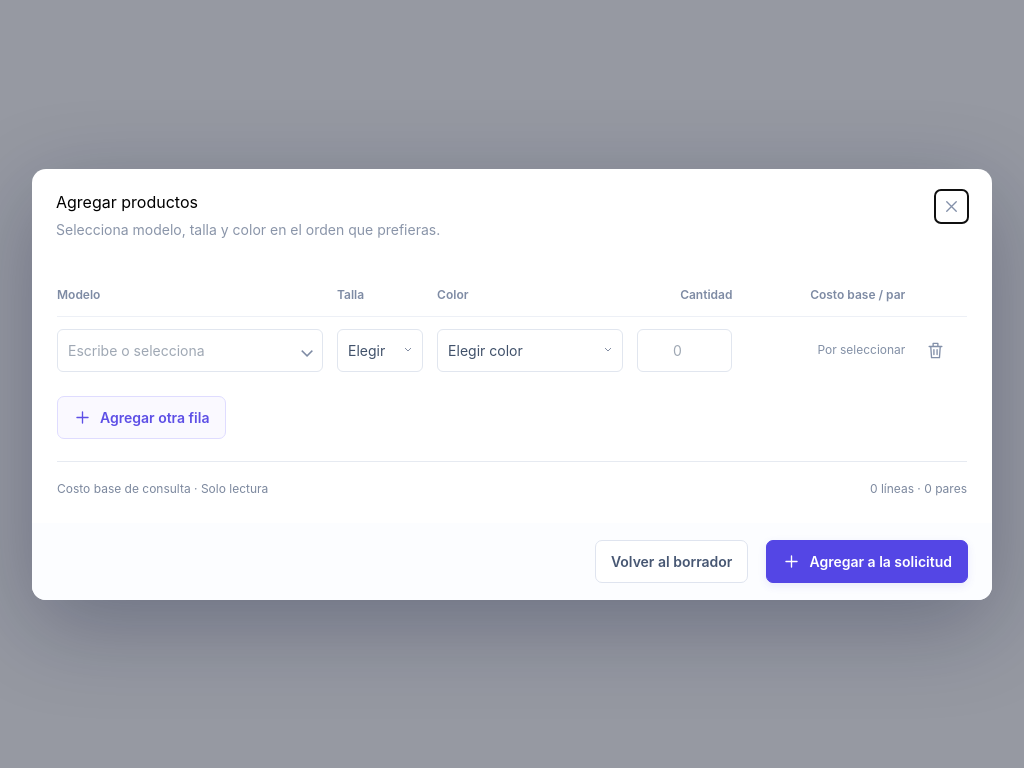
permite quitar una fila incompleta sin bloquear las otras líneas válidas
Step 1. Select "Negro" in the dropdown named "Color de la fila 1" → (530, 350), box top-left (437, 328), bottom-right (623, 372)
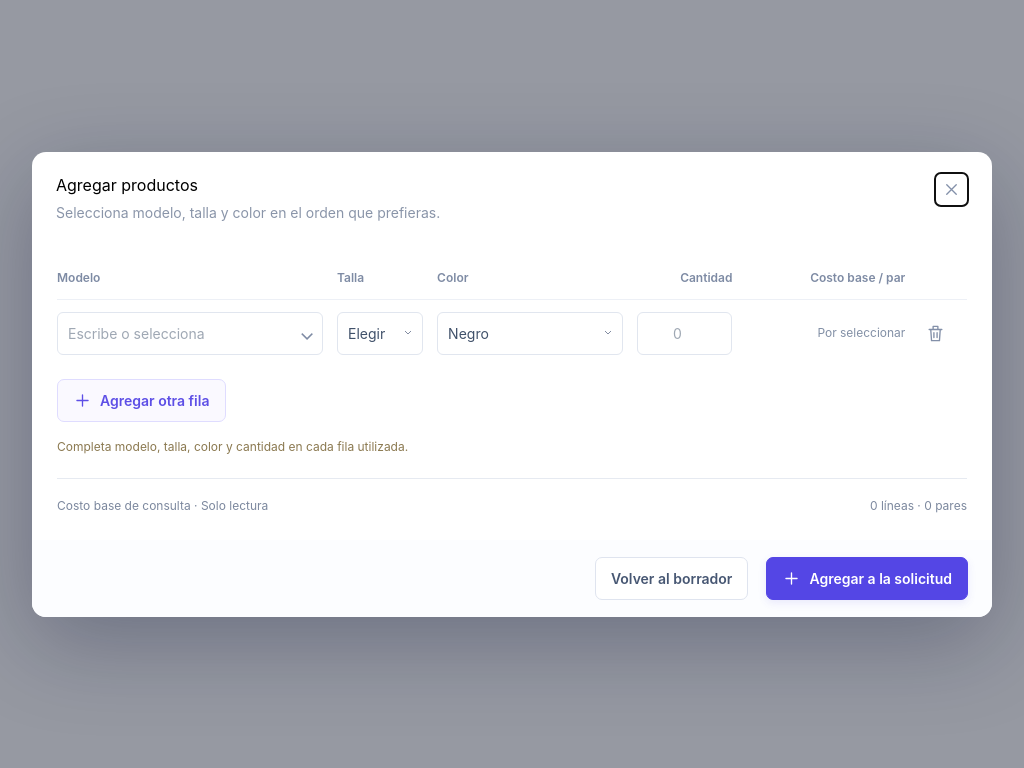
Step 2. Select "40" in the dropdown named "Talla de la fila 1" → (380, 333), box top-left (337, 312), bottom-right (423, 354)
Step 3. Type "Threshold" into the dropdown named "Modelo de la fila 1" → (190, 333), box top-left (57, 312), bottom-right (323, 354)
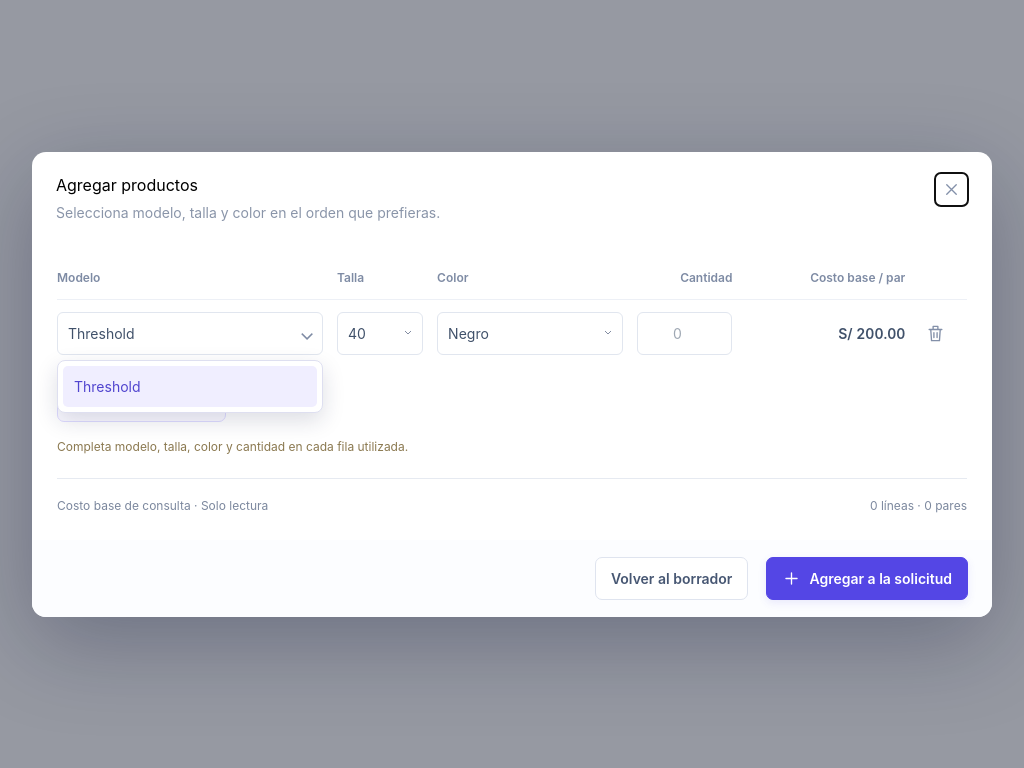
Step 4. Type "3" into the number field named "Cantidad de la fila 1" → (685, 333), box top-left (637, 312), bottom-right (732, 354)
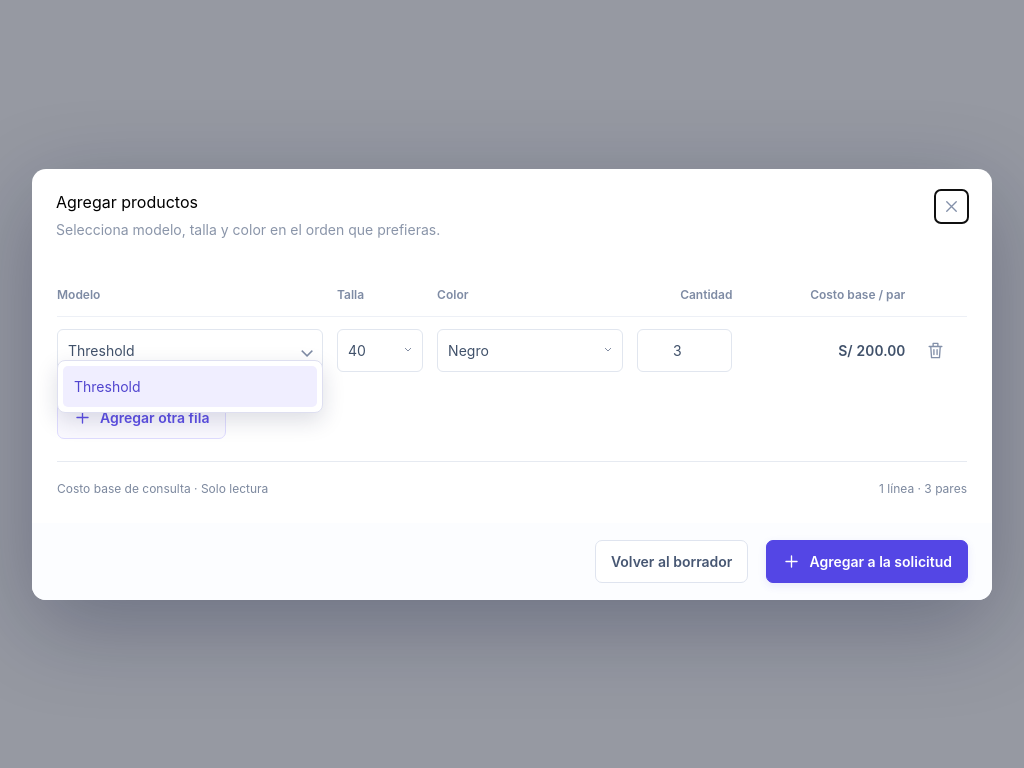
Step 5. Click the button "Agregar otra fila" → click(141, 417), box top-left (57, 396), bottom-right (226, 438)
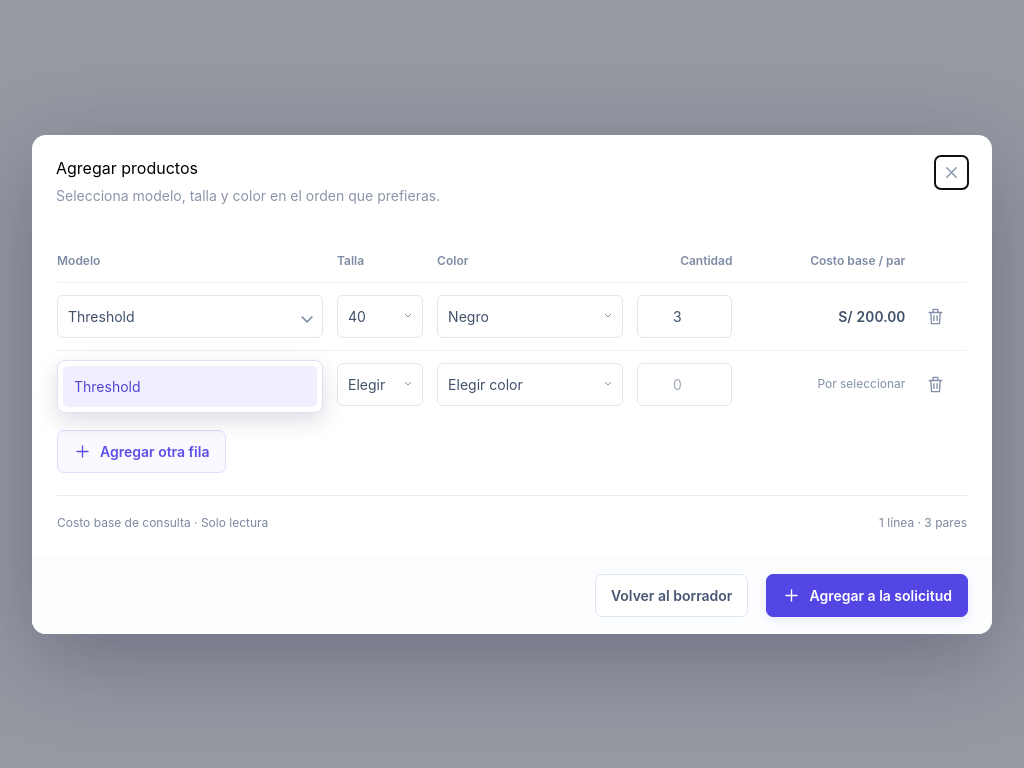
Step 6. Select "Negro" in the dropdown named "Color de la fila 2" → (530, 384), box top-left (437, 362), bottom-right (623, 406)
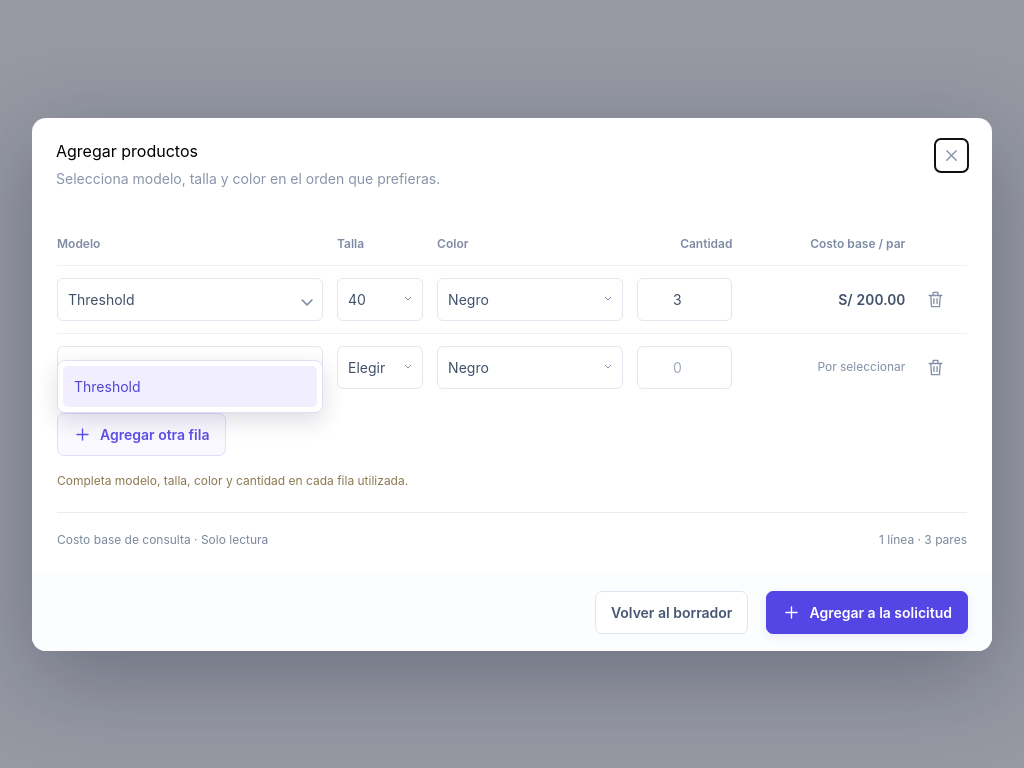
Now the button "Agregar a la solicitud" is disabled, box top-left (766, 590), bottom-right (968, 634)
Step 7. Click the button named "Quitar fila 2" → click(936, 367), box top-left (919, 346), bottom-right (952, 388)
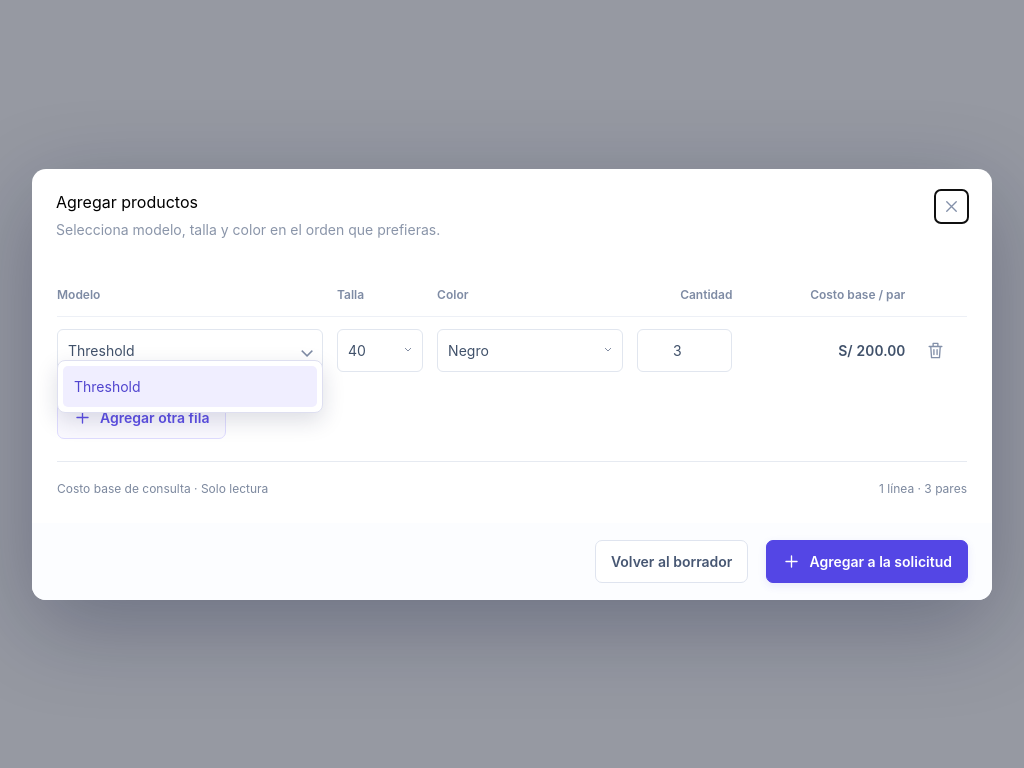
Now the button "Agregar a la solicitud" is enabled, box top-left (766, 540), bottom-right (968, 582)
